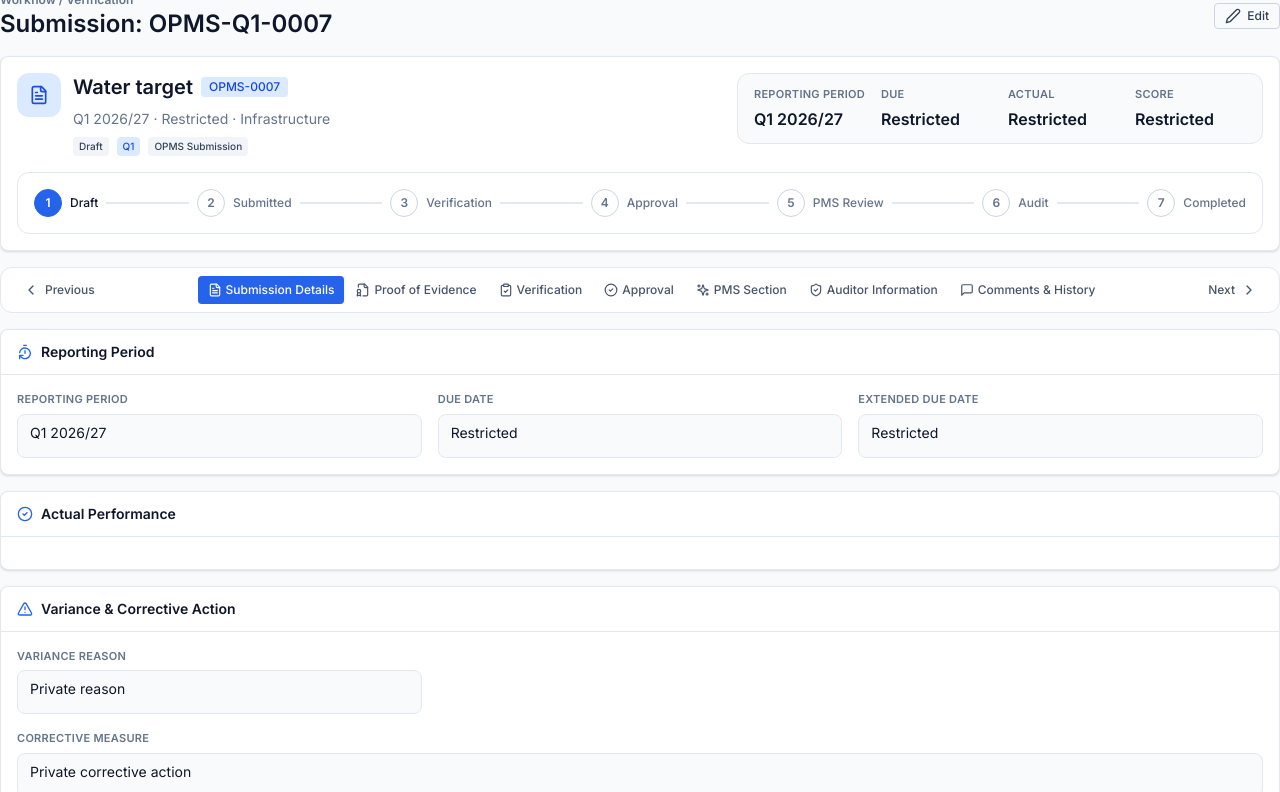
Test: SubmissionWorkspace member security › renders readable members and enables only fields with member update permission
Click the button "Edit": (1247, 16) left=1214, top=3, right=1279, bottom=29
(page scrolled)
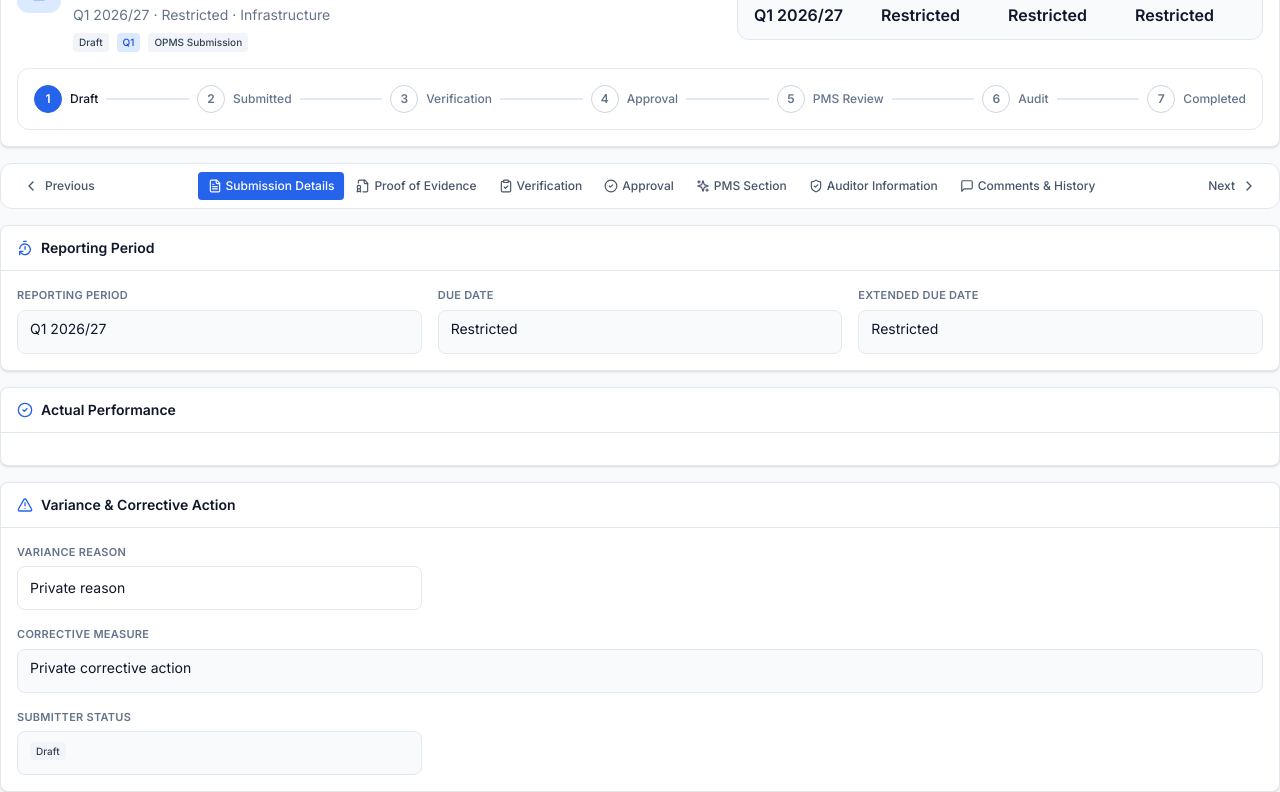
Expected: the text "Private corrective action" is shown, left=17, top=648, right=1263, bottom=692
Result: the field showing "Private reason" is shown at left=17, top=566, right=422, bottom=610
